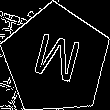M_S: (28, 29, 84, 90)
